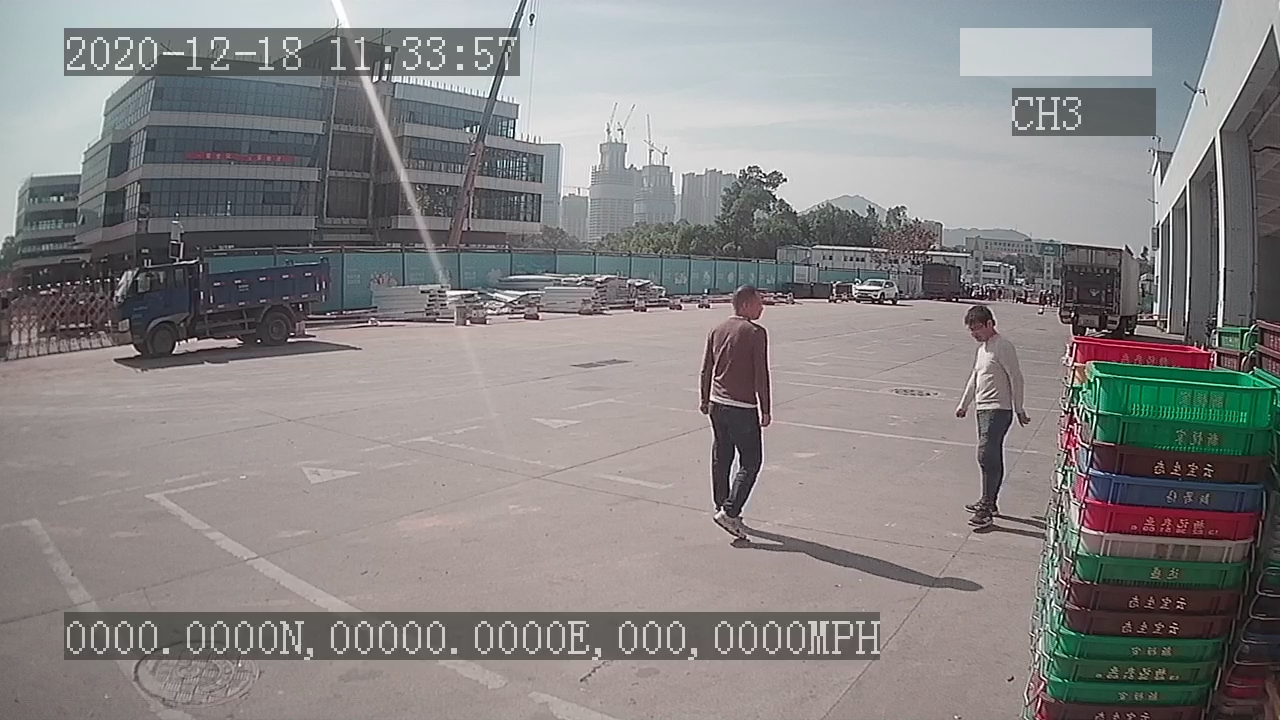person: (945, 299, 1036, 536), (699, 279, 776, 543)
